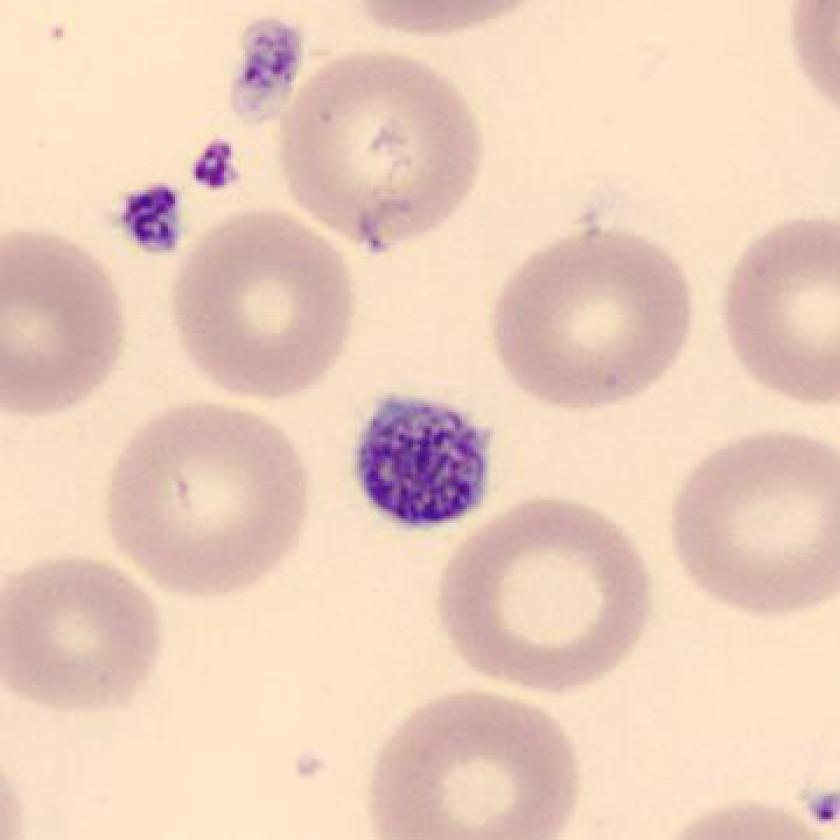platelets: (342, 383, 510, 542), (211, 15, 321, 133), (111, 170, 192, 272), (181, 133, 251, 205)
